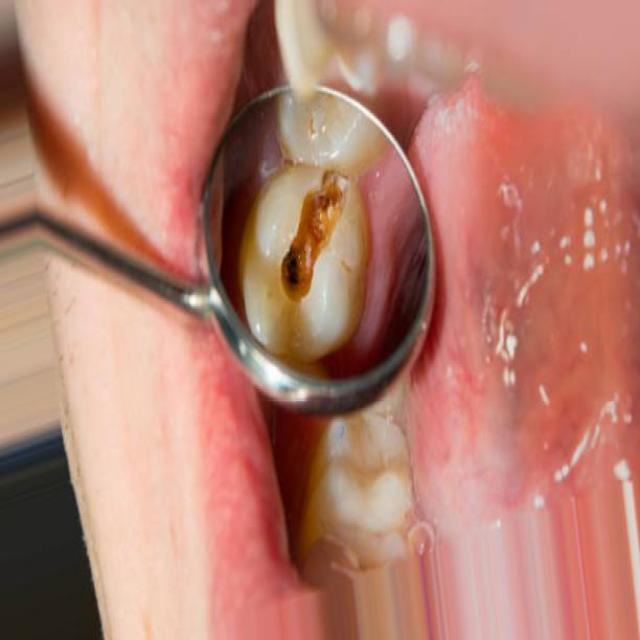caries: (266, 143, 368, 322)
